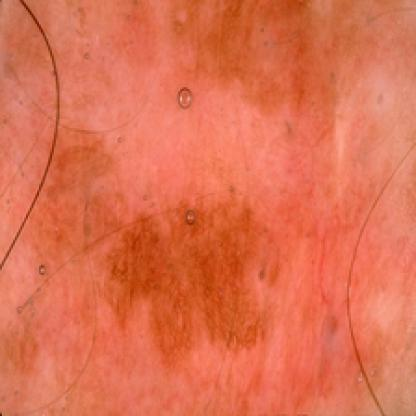malignant: (31, 124, 262, 346)
